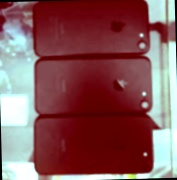iphone: (25, 116, 146, 176), (25, 58, 144, 115), (26, 1, 143, 56)
